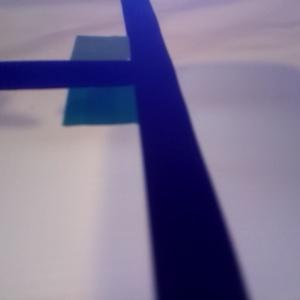bottom_left: (63, 61, 171, 125)
top_left: (70, 34, 162, 82)
